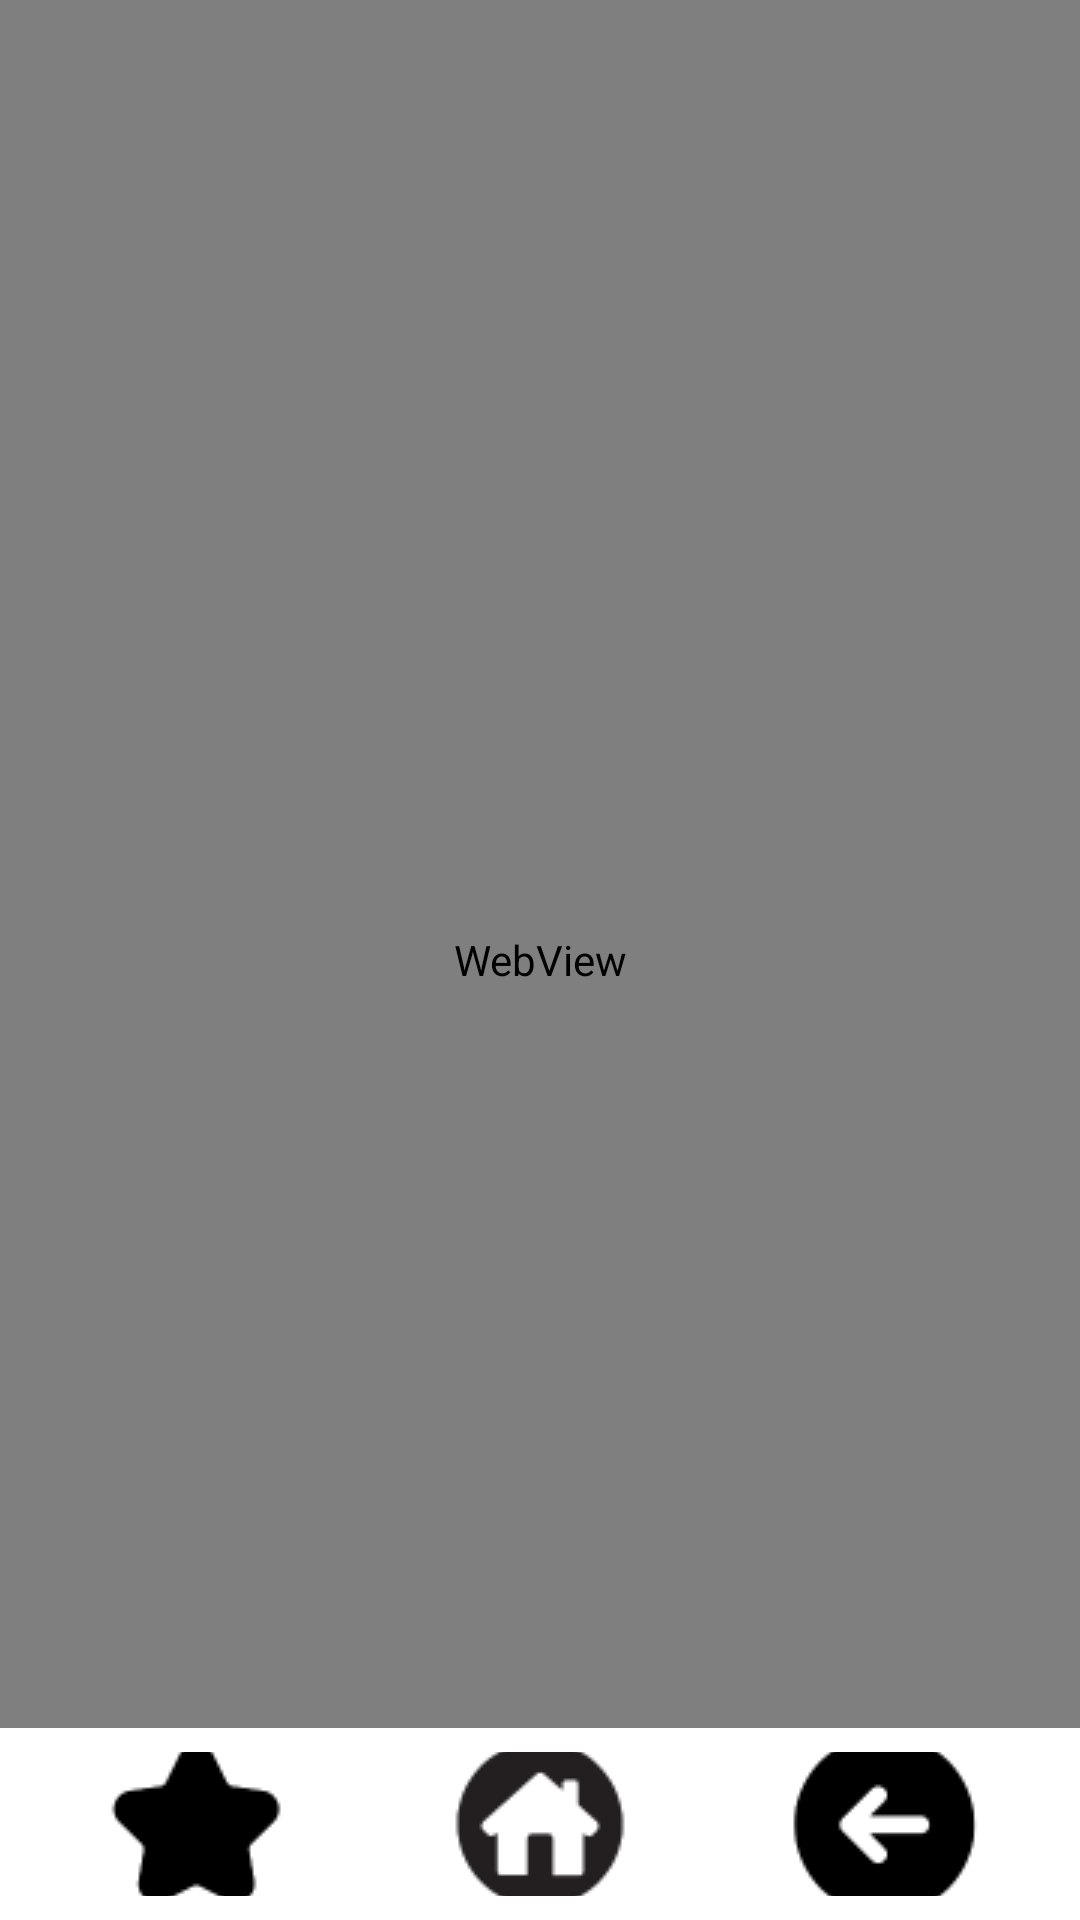

Locate icon controls on the screen. Image size 1080 × 1920, boxes as (x1=x1, y1=y1, x2=x2, y2=y2).
Back: (x1=793, y1=1752, x2=976, y2=1896)
Home: (x1=455, y1=1752, x2=625, y2=1896)
Star: (x1=111, y1=1752, x2=281, y2=1896)
